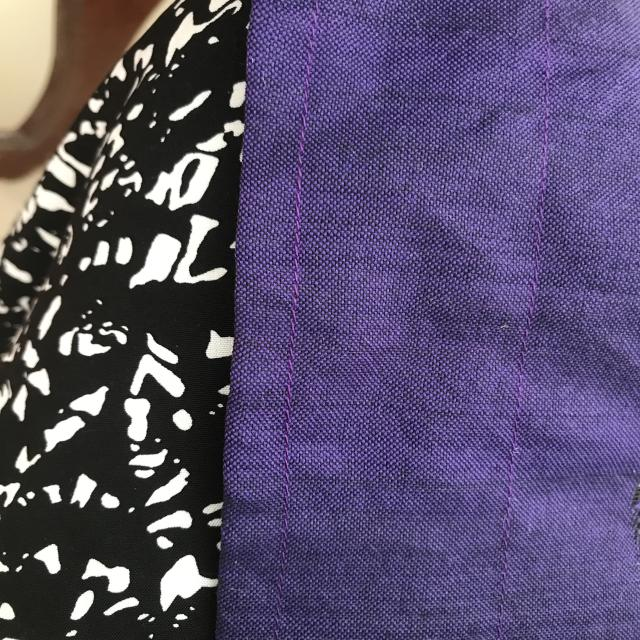good: (278, 260, 306, 412), (286, 111, 307, 239)
